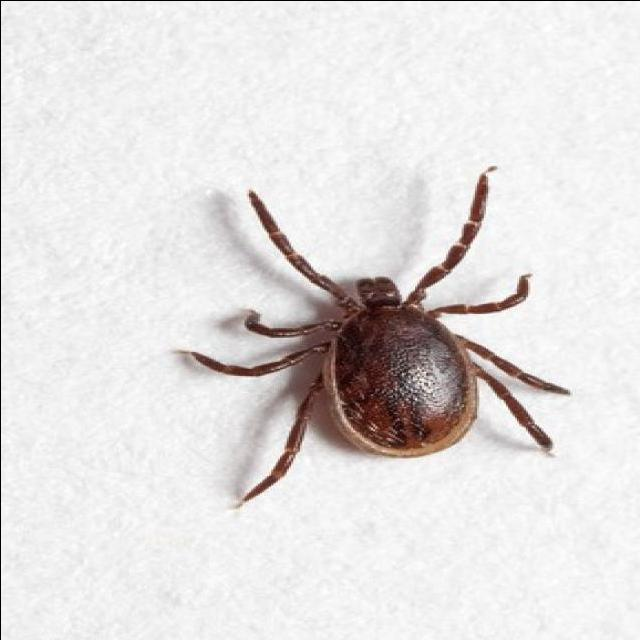Ixodes Ricinus-M: (175, 165, 569, 505)
